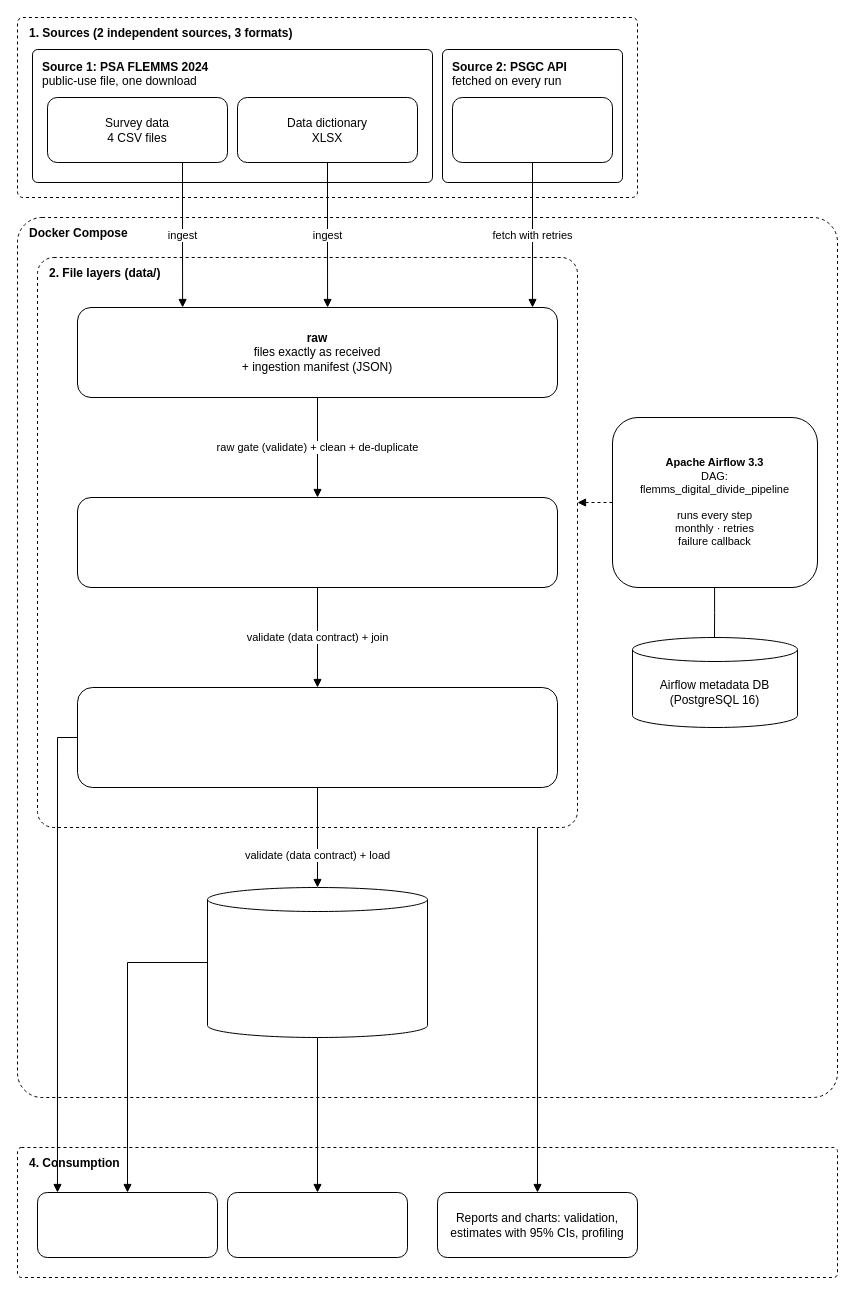
Image size: 855x1295. Some labels were removed from this diagram. Here are the shapes that lost their labels. From the top down, the centre of each, then its label:
At (x=532, y=129): "Region list REST API / JSON".
At (x=317, y=542): "staging typed, de-duplicated Parquet + codebook".
At (x=317, y=737): "curated joined tables (Parquet) person table partitioned by region".
At (x=317, y=962): "3. PostgreSQL 16 warehouse 5 tables + audit table + view".
At (x=127, y=1225): "Analysis / dashboard".
At (x=317, y=1225): "SQL queries".
